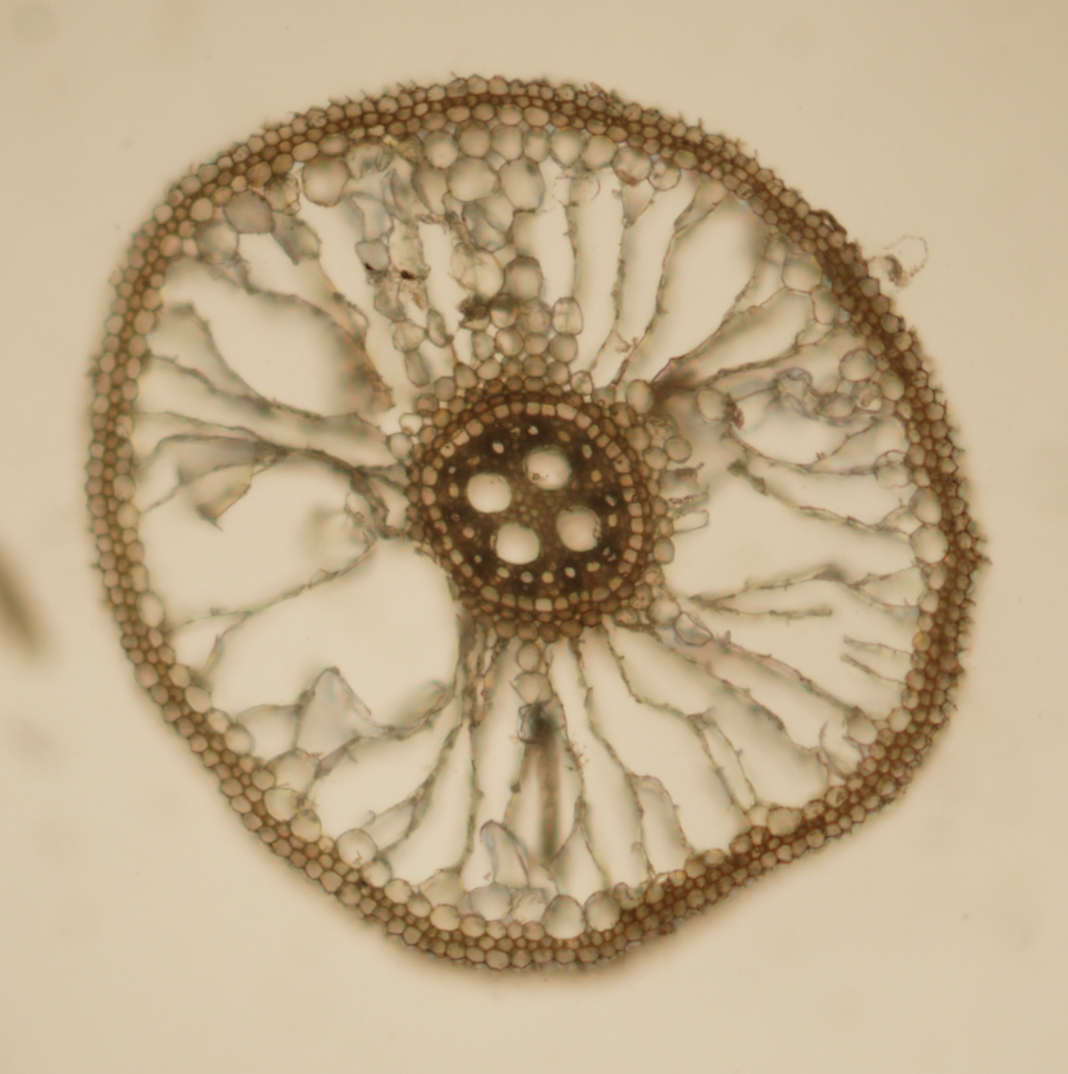lm: (523, 444, 572, 490), (556, 504, 601, 551), (495, 522, 540, 564), (466, 472, 512, 512)
